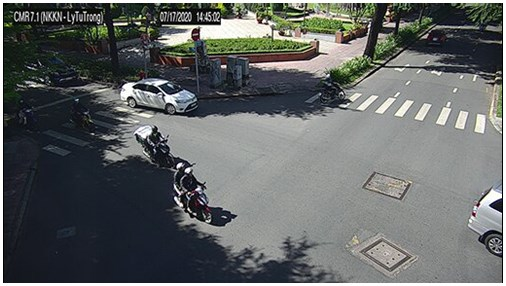xe_hoi: (121, 78, 198, 114), (467, 181, 502, 255), (25, 56, 82, 88), (427, 29, 447, 47)
xe_may: (173, 163, 214, 224), (135, 125, 176, 169), (68, 98, 97, 133), (317, 73, 345, 105), (16, 97, 41, 132)
